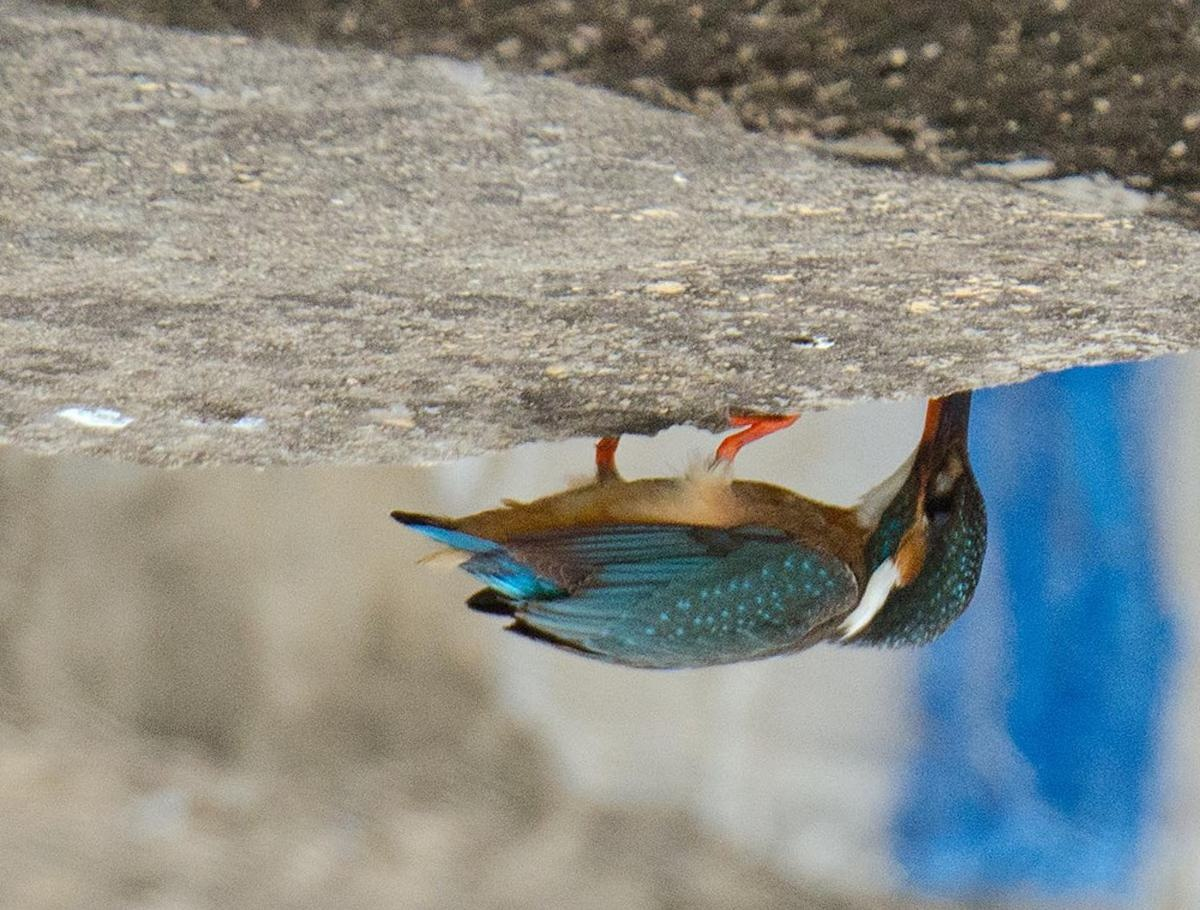kingfisher: (398, 424, 1079, 690)
